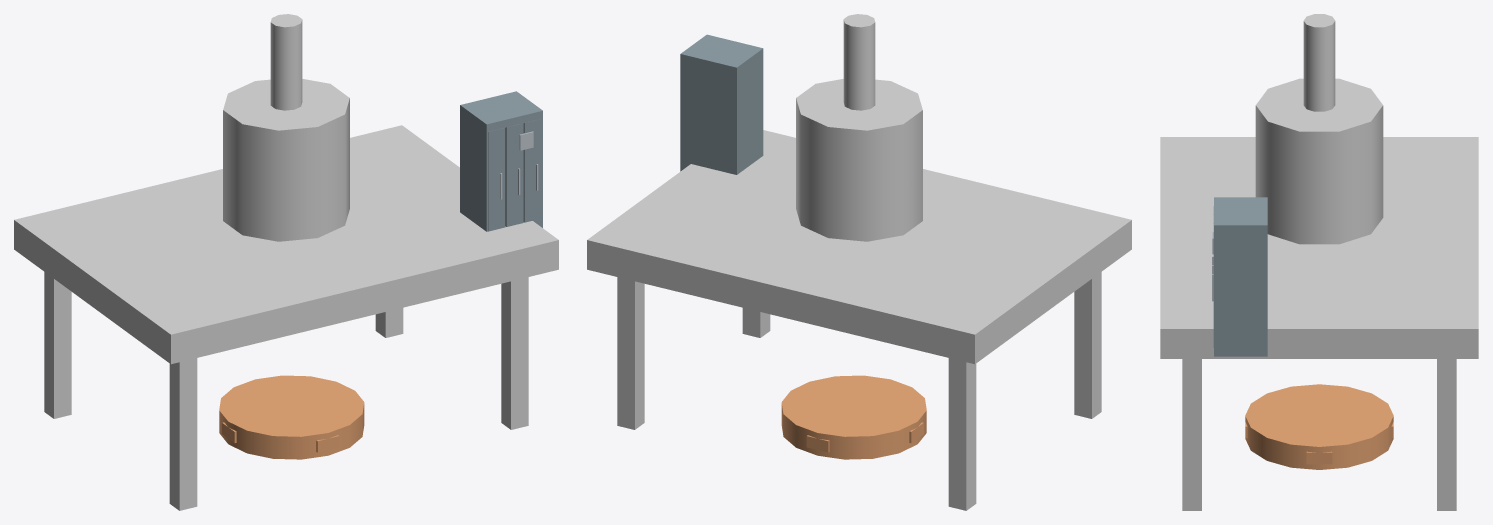
3 views of the same model, side by side, from view 1: azimuth 30°, elevation 25°; view 2: azimuth 150°, elevation 25°; view 3: azimuth 270°, elevation 25° (orthographic).
Parts seen in each view (by area): view 1: worktable_5, induction_coil_7, visualRotor, leg_2, leg_4, leg_1, g0, toolholder_8, g0007, g0009, g0003, g0004 (+1 smaller); view 2: worktable_5, induction_coil_7, visualRotor, g0002, leg_1, leg_3, leg_2, toolholder_8, g0, g0004, leg_4; view 3: worktable_5, induction_coil_7, visualRotor, g0005, toolholder_8, leg_3, leg_4, g0004.
Boxes of the visible parts, bbox=[...] form: worktable_5: bbox=[14, 125, 558, 364]; induction_coil_7: bbox=[223, 79, 349, 241]; visualRotor: bbox=[219, 375, 364, 459]; leg_2: bbox=[169, 358, 197, 510]; leg_4: bbox=[501, 277, 528, 429]; leg_1: bbox=[44, 272, 71, 418]; g0: bbox=[460, 104, 489, 231]; toolholder_8: bbox=[270, 14, 302, 110]; g0007: bbox=[505, 123, 523, 226]; g0009: bbox=[488, 128, 505, 231]; g0003: bbox=[523, 119, 541, 226]; g0004: bbox=[465, 93, 542, 131]; worktable_5: bbox=[587, 130, 1131, 364]; induction_coil_7: bbox=[796, 79, 922, 241]; visualRotor: bbox=[781, 375, 926, 459]; g0002: bbox=[680, 53, 738, 174]; leg_1: bbox=[948, 358, 976, 510]; leg_3: bbox=[617, 277, 644, 429]; leg_2: bbox=[1074, 272, 1101, 418]; toolholder_8: bbox=[843, 14, 875, 110]; g0: bbox=[733, 47, 763, 174]; g0004: bbox=[686, 35, 763, 74]; leg_4: bbox=[742, 308, 770, 337]; worktable_5: bbox=[1160, 137, 1478, 358]; induction_coil_7: bbox=[1255, 78, 1383, 244]; visualRotor: bbox=[1245, 384, 1393, 469]; g0005: bbox=[1214, 223, 1267, 356]; toolholder_8: bbox=[1303, 14, 1335, 111]; leg_3: bbox=[1437, 359, 1456, 510]; leg_4: bbox=[1182, 359, 1201, 510]; g0004: bbox=[1214, 199, 1265, 232].
Bounding box in the file's own units: 2.2 × 2.16 × 1.5.
